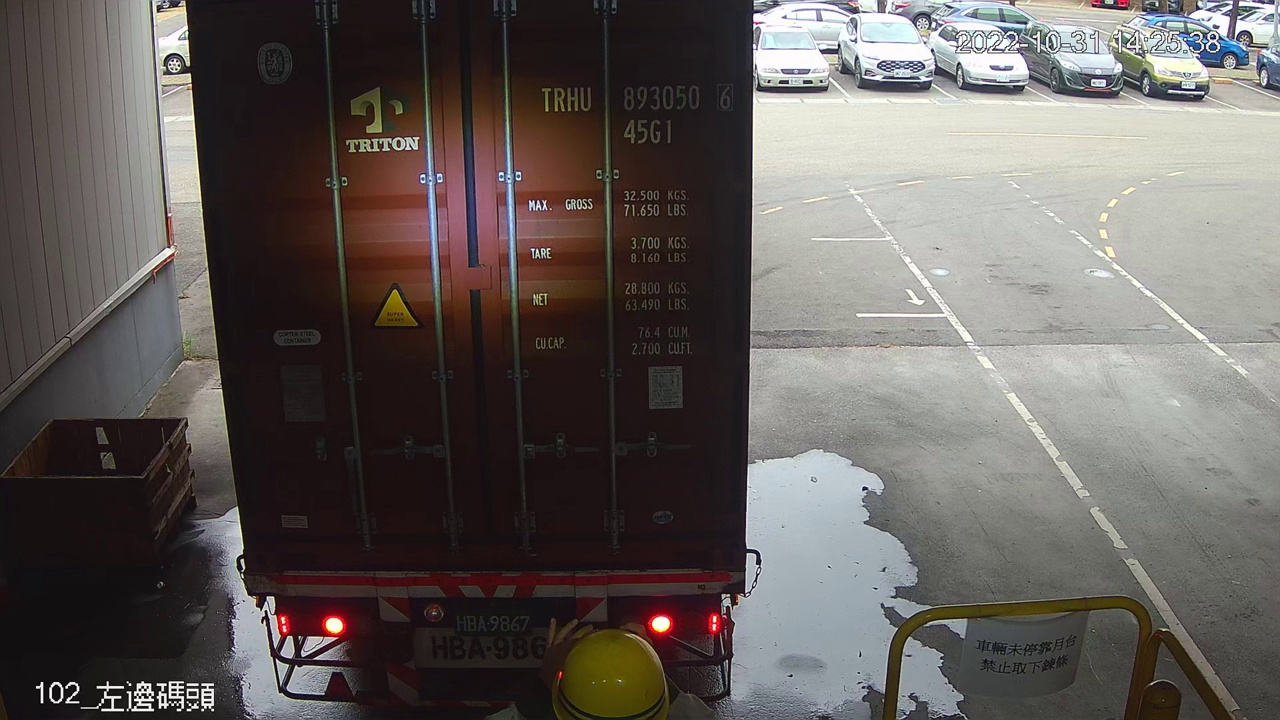container: (532, 77, 738, 152)
